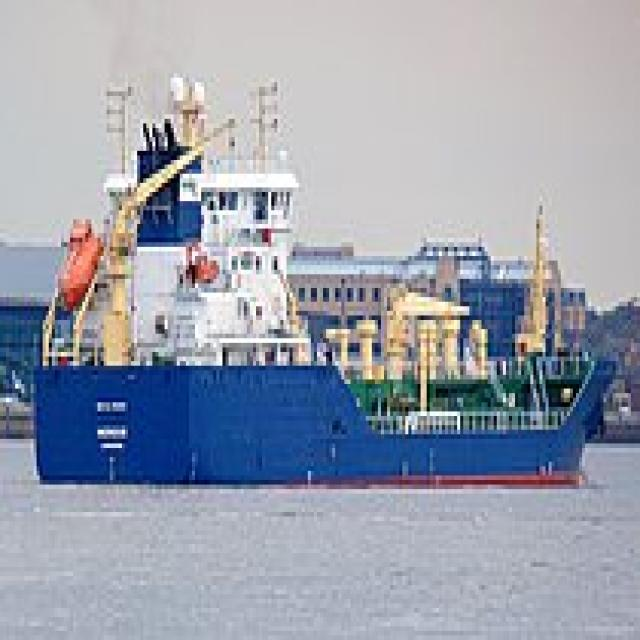Tanker: (24, 59, 619, 484)
